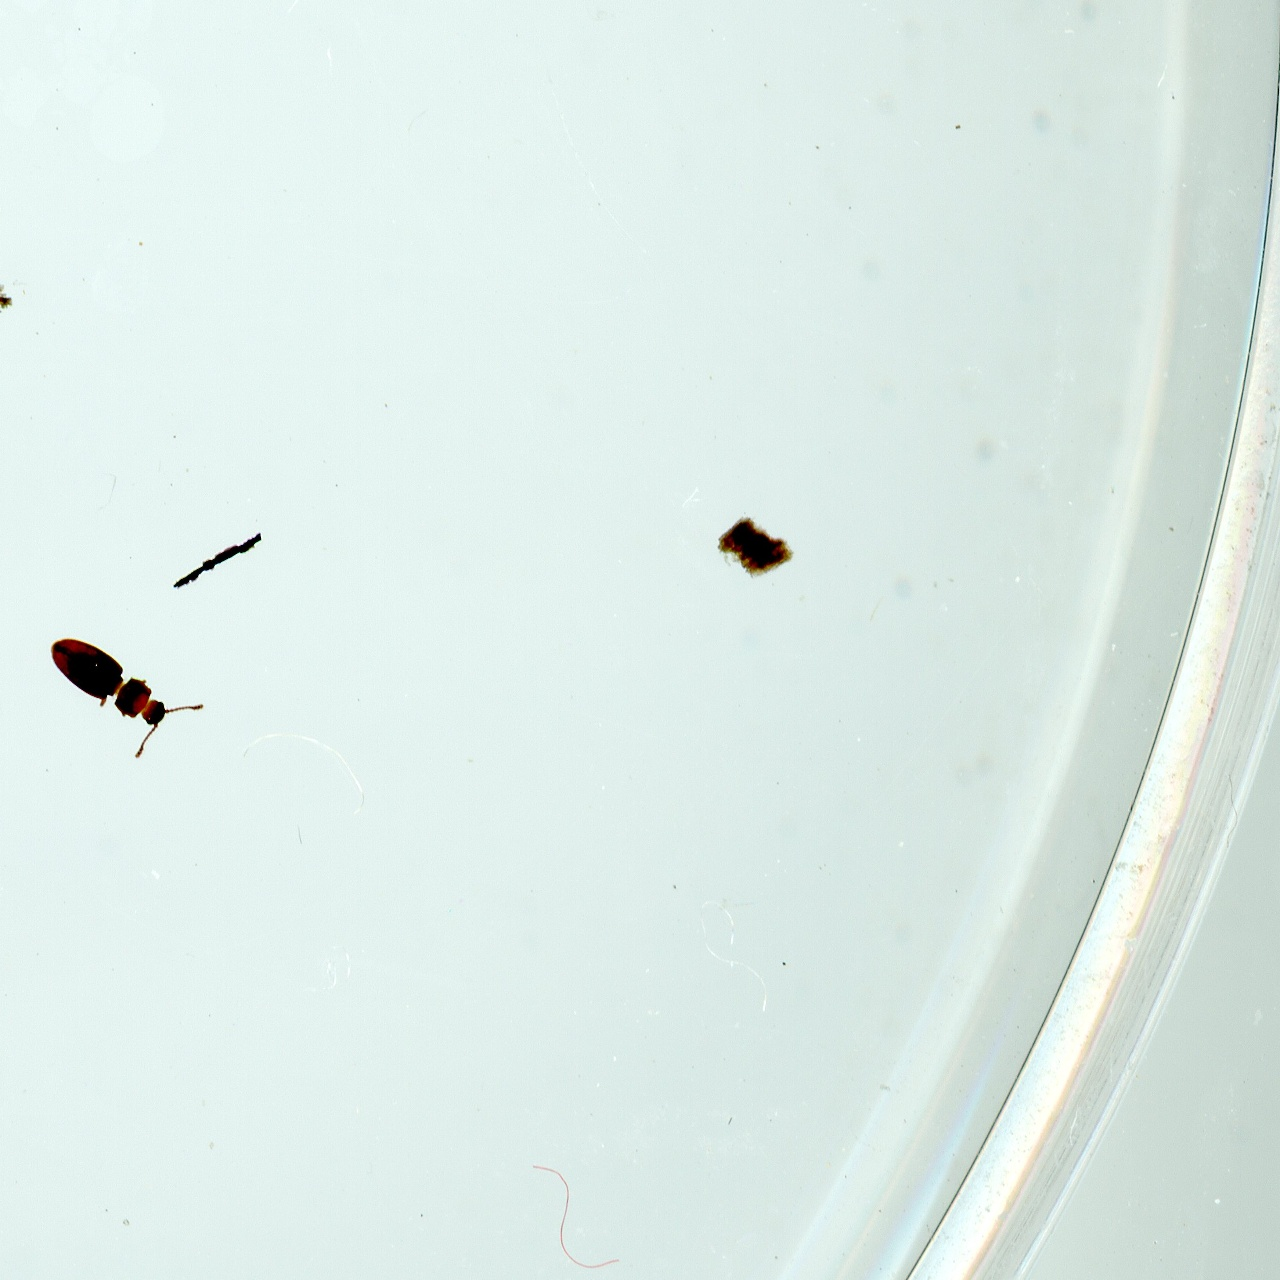arthropod: (30, 594, 211, 772)
